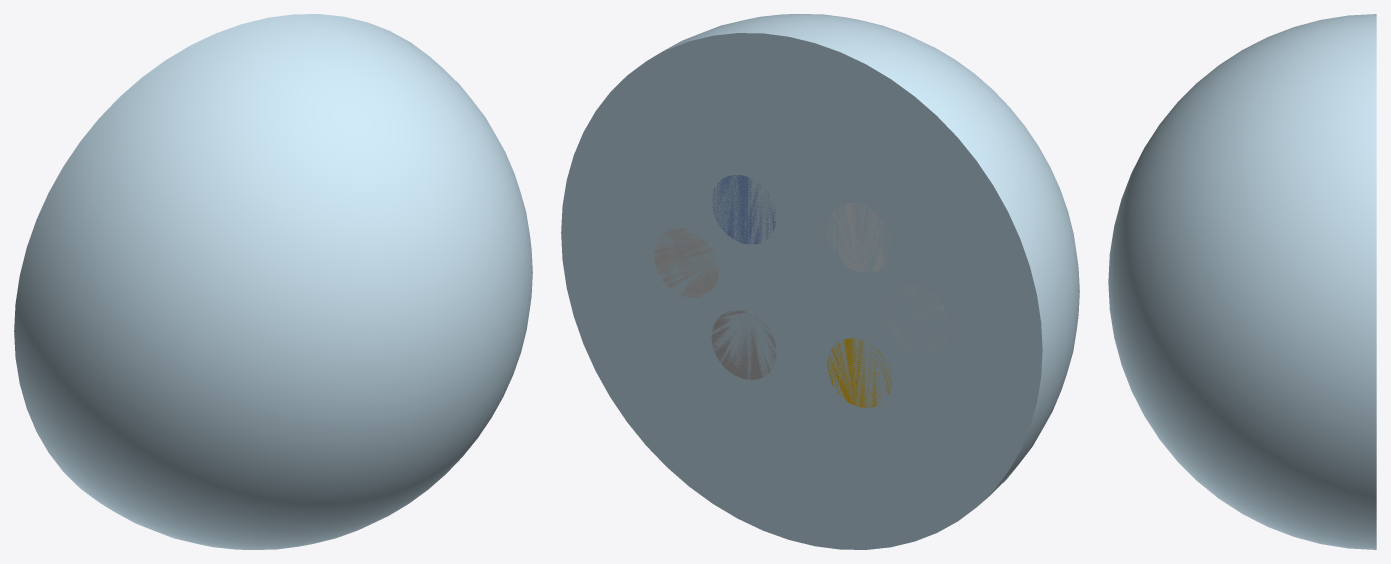
The model's file is 13_lymph_node - Composite part 1.glb.
The picture shows the model from 3 angles, left to right: view 1: azimuth 30°, elevation 25°; view 2: azimuth 150°, elevation 25°; view 3: azimuth 270°, elevation 25°; orthographic projection. The views are drawn at different scales.
Visible parts, largest first — view 1: Open CASCADE STEP translator 7.9 13.1; view 2: Open CASCADE STEP translator 7.9 13.1, Open CASCADE STEP translator 7.9 13.2, Open CASCADE STEP translator 7.9 13.3, Open CASCADE STEP translator 7.9 13.4, Open CASCADE STEP translator 7.9 13.7, Open CASCADE STEP translator 7.9 13.6, Open CASCADE STEP translator 7.9 13.5; view 3: Open CASCADE STEP translator 7.9 13.1.
Boxes of the visible parts, x1=… form: Open CASCADE STEP translator 7.9 13.1: x1=14, y1=14, x2=532, y2=549; Open CASCADE STEP translator 7.9 13.1: x1=561, y1=14, x2=1079, y2=549; Open CASCADE STEP translator 7.9 13.2: x1=654, y1=228, x2=718, y2=298; Open CASCADE STEP translator 7.9 13.3: x1=711, y1=175, x2=776, y2=244; Open CASCADE STEP translator 7.9 13.4: x1=827, y1=203, x2=891, y2=272; Open CASCADE STEP translator 7.9 13.7: x1=711, y1=310, x2=776, y2=379; Open CASCADE STEP translator 7.9 13.6: x1=827, y1=338, x2=891, y2=407; Open CASCADE STEP translator 7.9 13.5: x1=885, y1=285, x2=949, y2=353; Open CASCADE STEP translator 7.9 13.1: x1=1108, y1=14, x2=1376, y2=549.
Size of the model in its own units: 0.02 by 0.02 by 0.01.
